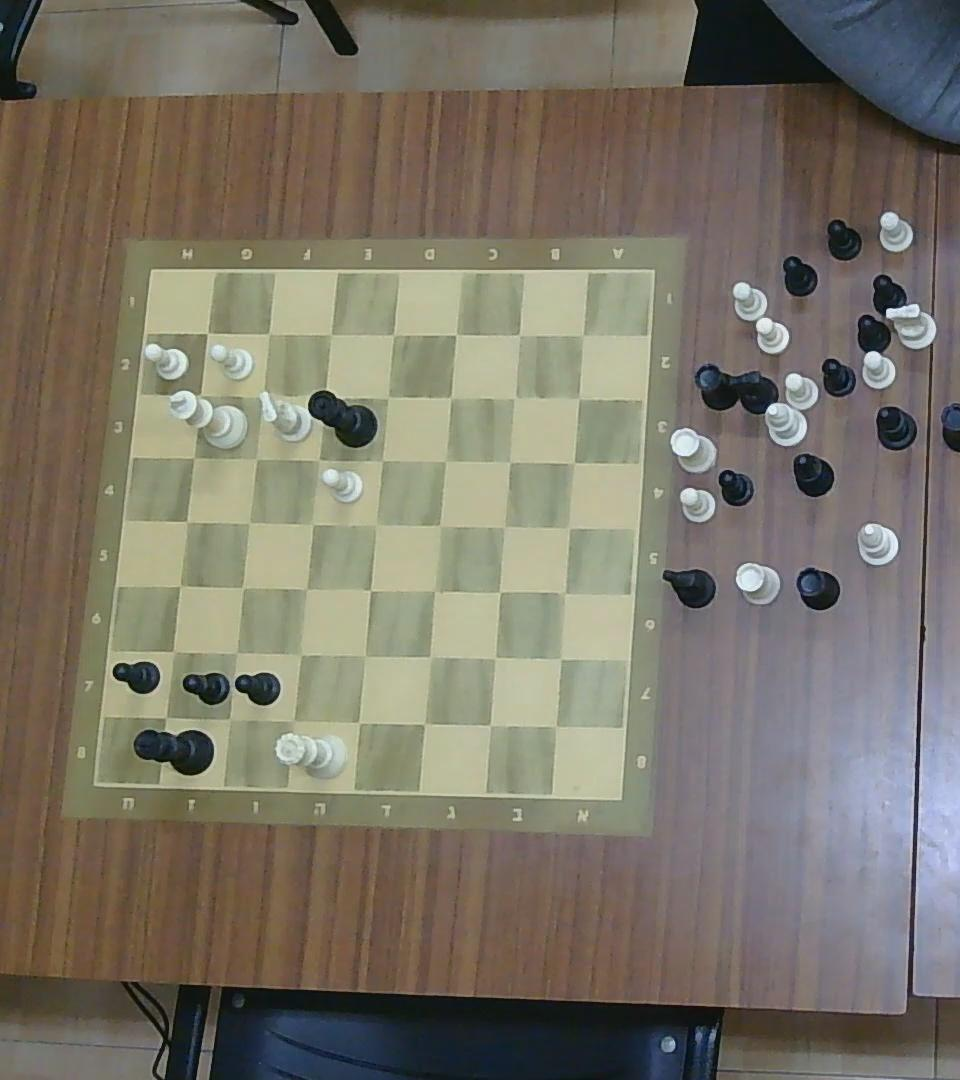xcorner: (477, 712, 503, 738), (543, 714, 569, 739), (412, 711, 437, 736), (247, 382, 272, 407), (347, 709, 371, 734), (418, 645, 442, 670), (281, 708, 305, 732), (482, 646, 506, 669), (353, 644, 376, 668), (288, 642, 311, 666), (154, 705, 178, 728), (439, 387, 461, 408), (225, 642, 246, 664), (218, 708, 240, 729), (188, 384, 210, 405), (372, 449, 392, 471), (549, 648, 571, 668), (423, 579, 443, 601), (319, 324, 341, 344), (163, 641, 185, 661), (429, 514, 449, 535), (183, 447, 203, 467), (366, 514, 386, 534), (170, 575, 190, 595), (378, 387, 397, 408), (296, 578, 315, 599), (435, 450, 454, 470), (489, 582, 508, 602), (361, 580, 380, 600), (555, 582, 574, 602), (446, 325, 465, 345), (259, 324, 278, 344), (560, 516, 579, 536), (177, 511, 196, 531), (384, 325, 403, 345), (315, 386, 334, 406), (309, 448, 327, 469), (240, 513, 259, 532), (303, 514, 321, 534), (495, 516, 513, 536), (248, 449, 266, 468), (198, 323, 217, 341), (500, 451, 518, 470), (564, 453, 583, 471), (233, 579, 251, 598), (505, 389, 523, 406), (511, 326, 528, 344), (573, 327, 591, 344), (572, 390, 588, 405)
